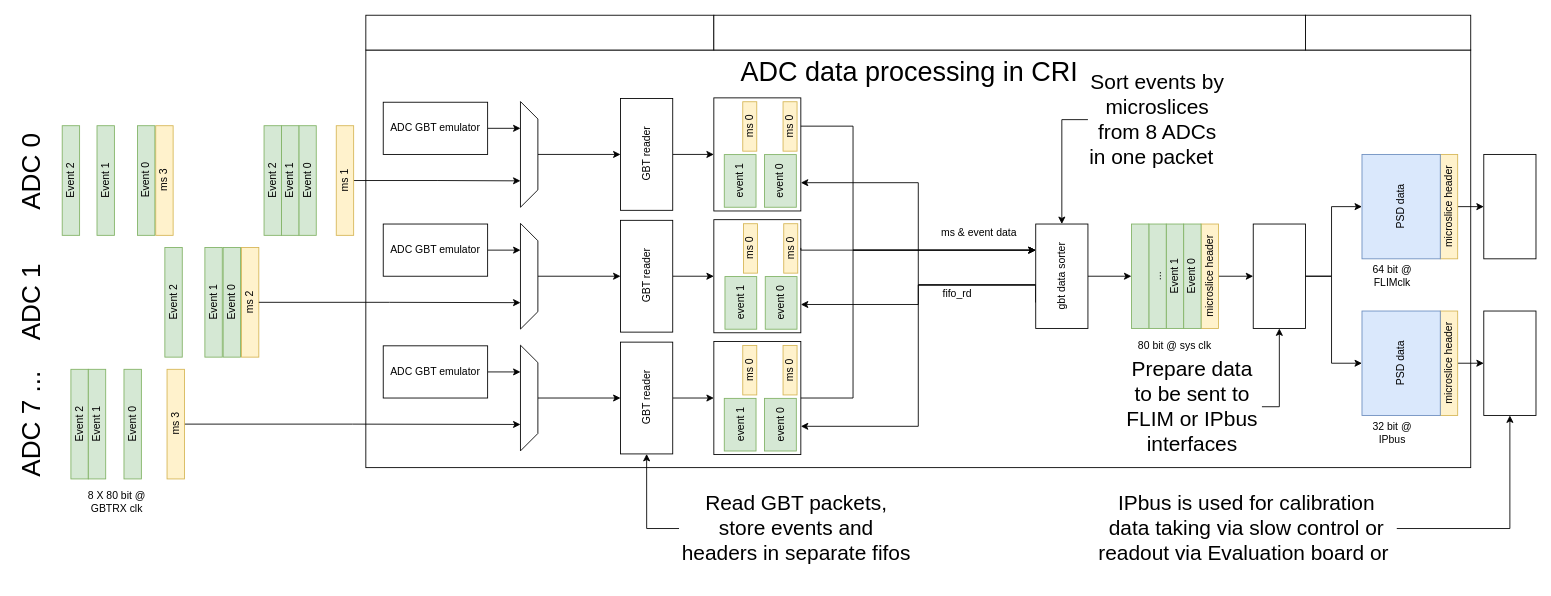
The diagram is 1551 pixels wide and 596 high, and some of its shapes have lost their labels. Here are the shapes that lost their labels. From the top down, the centre of each, then its label:
At [539,32]: "40MHz GBT RX clk".
At [1009,32]: "320MHz SYS clk (sync to GBTRX)".
At [1388,32]: "FLIM or IPbus interface clk".
At [1509,206]: "FLIM interface".
At [1140,275]: "Event n".
At [1278,275]: "format converter".
At [1509,362]: "IPbus".
